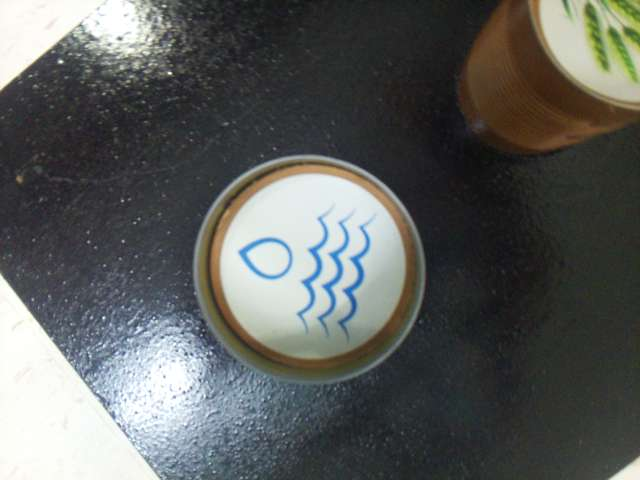water_barrel: (227, 183, 384, 352)
wheat_barrel: (545, 0, 638, 89)
